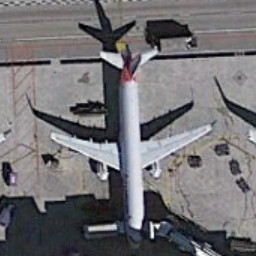Airplane: (46, 34, 217, 256)
